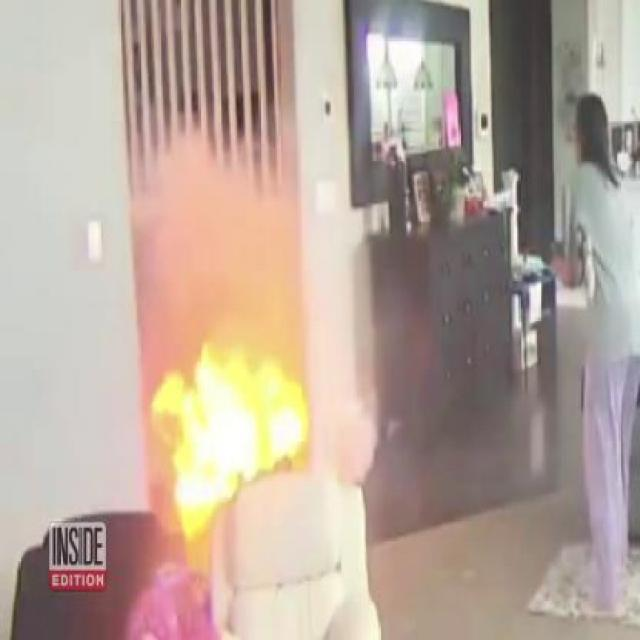fire: (148, 330, 337, 512)
smoke: (148, 147, 312, 324)
